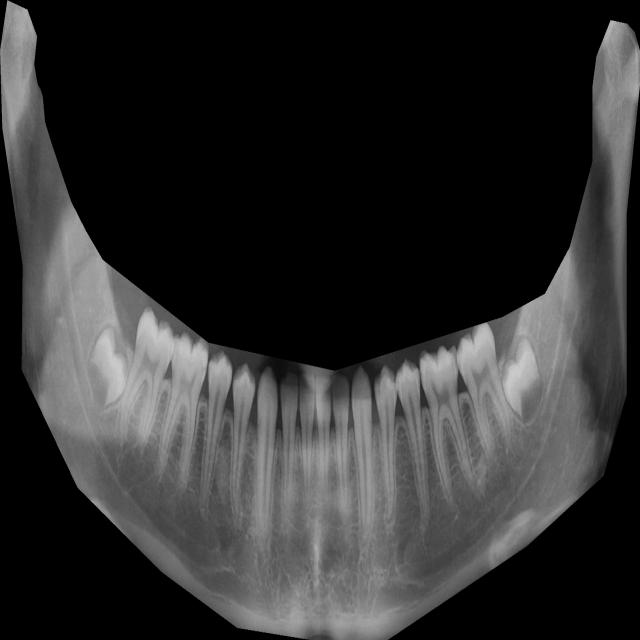mandibula: (0, 0, 640, 640)
